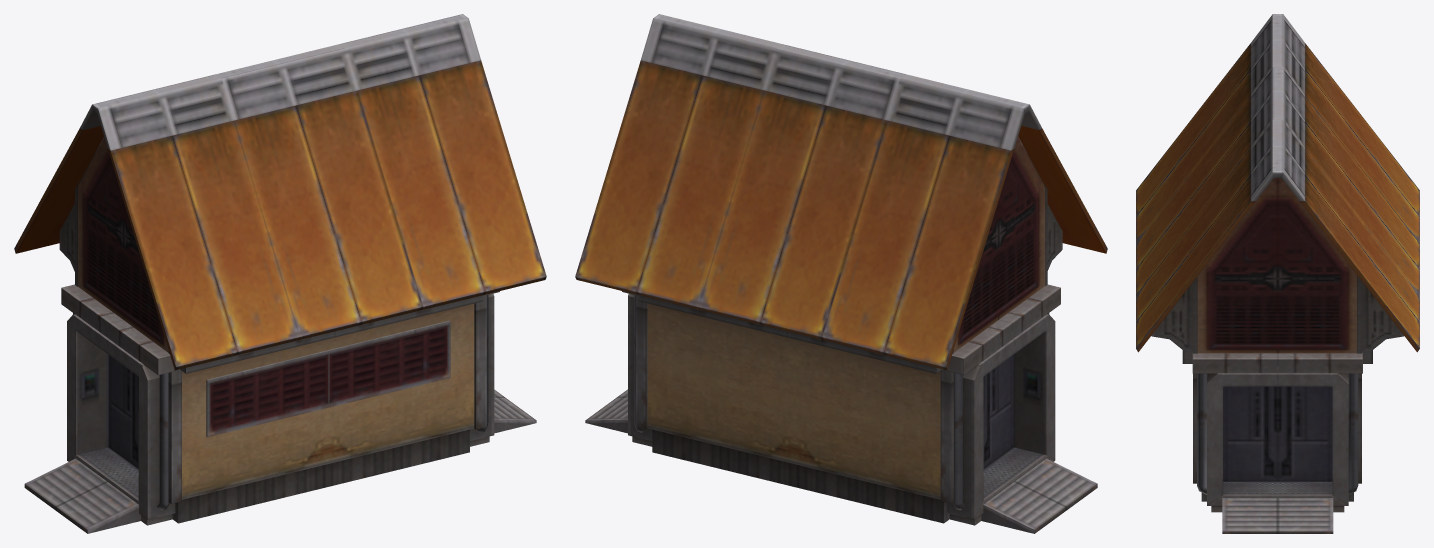
The model's file is zc_lekesigang_zhujian06.FBX.
3 views of the same model, side by side, from view 1: azimuth 30°, elevation 25°; view 2: azimuth 150°, elevation 25°; view 3: azimuth 270°, elevation 25° (orthographic). The views are drawn at different scales.
Parts seen in each view (by area): view 1: zc_lekesigang_zhujian06; view 2: zc_lekesigang_zhujian06; view 3: zc_lekesigang_zhujian06.
Part boxes in pixels (bbox=[...]): zc_lekesigang_zhujian06: bbox=[14, 14, 546, 533]; zc_lekesigang_zhujian06: bbox=[575, 14, 1107, 533]; zc_lekesigang_zhujian06: bbox=[1136, 14, 1419, 533].
Size of the model in its own units: 1222 by 1026 by 763.
Materials: 1 (1 with a texture image).
